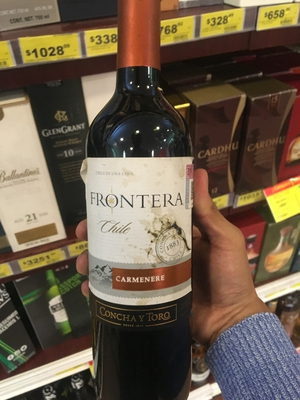frontera carmenere: (83, 5, 200, 374)
